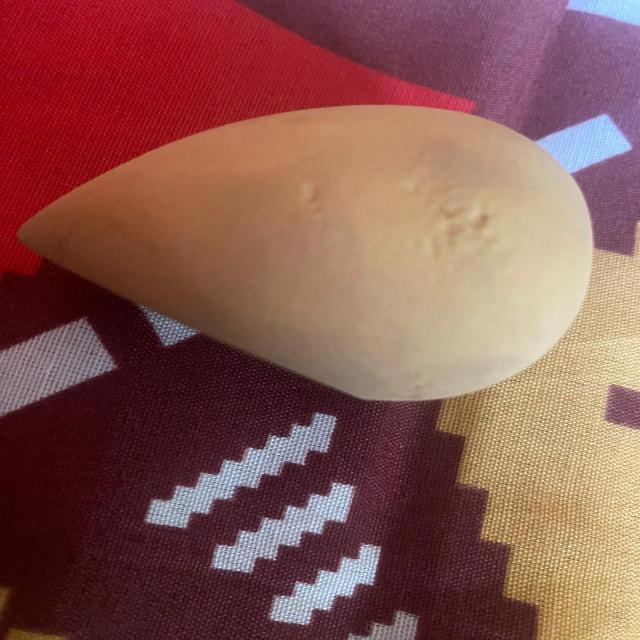beauty blender: (10, 72, 615, 422)
